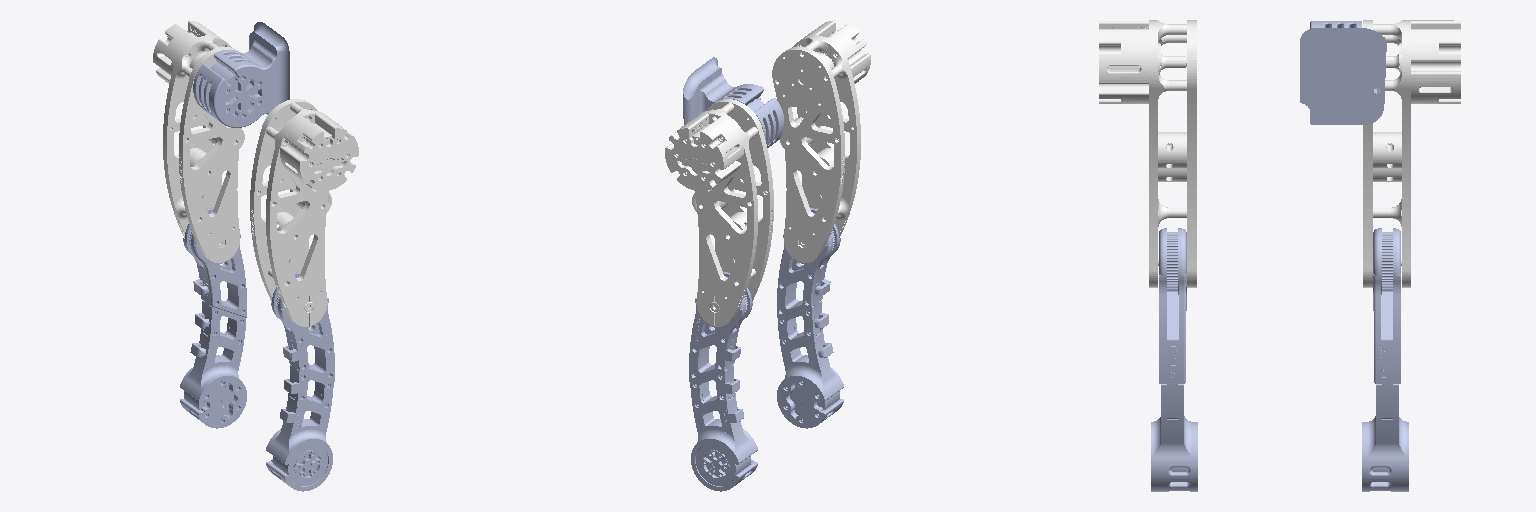
The robot description file, URDF, robot "wheel_GOAT":
<?xml version="1.0" encoding="utf-8"?>
<robot name="wheel_GOAT">
    <!-- 
      Uncomment to support the robot by fixing its base link to the world frame. 
      This anchors the robot in place, preventing movement.
    -->
    
    <!-- 
    <link name="world"/>
    <joint name="base_static_Joint" type="fixed">
        <origin rpy="0 0 0" xyz="0 0 0.3"/>
        <parent link="world"/>
        <child link="base_Link"/>
    </joint>
    -->
    <material name="black">
        <color rgba="0.0 0.0 0.0 1.0"/>
    </material>
    <material name="blue">
        <color rgba="0.0 0.0 0.8 1.0"/>
    </material>
    <material name="green">
        <color rgba="0.0 0.8 0.0 1.0"/>
    </material>
    <material name="grey">
        <color rgba="0.2 0.2 0.2 1.0"/>
    </material>
    <material name="silver">
        <color rgba="0.9137254901960784 0.9137254901960784 0.8470588235294118 1.0"/>
    </material>
    <material name="orange">
        <color rgba="1.0 0.4235294117647059 0.0392156862745098 1.0"/>
    </material>
    <material name="brown">
        <color rgba="0.8705882352941177 0.8117647058823529 0.7647058823529411 1.0"/>
    </material>
    <material name="red">
        <color rgba="0.8 0.0 0.0 1.0"/>
    </material>
    <material name="white">
        <color rgba="1.0 1.0 1.0 1.0"/>
    </material>

    <!-- ****************************************** Link ******************************************************** -->

    <link name="base_Link">
        <inertial>
            <origin rpy="0 0 0" xyz="-9.521E-03 0.016E-03 -72.346E-03"/>
            <mass value="2.818"/>
            <inertia ixx="20284.45E-06" ixy="-5.647E-06" ixz="6404.633E-06"
                    iyy="23476.973E-06" iyz="0.541E-06" izz="21206.204E-06"/>
        </inertial>
        <visual>
            <origin xyz="-123.5E-03 0E-03 15.5E-03" rpy="0 0 0"/>
            <geometry>
                <mesh filename="../meshes/base_Link.stl"/>
            </geometry>
            <material name="black">
                <color rgba="0.79216 0.81961 0.93333 1"/>
            </material>
        </visual>
        <collision>
            <origin xyz="-23E-03 0 -15E-03" rpy="0 0 0"/>
            <geometry>
                <box size="0.214 0.200 0.190"/>
            </geometry>
        </collision>
    </link>

    <link name="hip_L_Link">
        <inertial>
            <!-- C_rel_mirror = [-48.092, -38.296, -0.162] mm -->
            <origin rpy="0 0 0" xyz="-48.092E-03 -38.296E-03 -0.162E-03"/>
            <mass value="0.32"/>
            <!-- I_C_new_mirror -->
            <inertia ixx="143.701E-06" ixy="-12.808E-06" ixz="-1.53E-06"
                    iyy="215.732E-06" iyz="-0.447E-06" izz="197.705E-06"/>
        </inertial>
        <visual>
            <origin xyz="0 0 0" rpy="0 0 0"/>
            <geometry>
                <mesh filename="../meshes/hip_L_Link.stl"/>
            </geometry>
            <material name="">
                <color rgba="0.79216 0.81961 0.93333 1"/>
            </material>
        </visual>
        <collision>
            <origin xyz="-43.5E-03 -42E-03 0" rpy="1.57 0 0"/>
            <geometry>
                <cylinder length="48E-03" radius="43.5E-03"/>
            </geometry>
        </collision>
    </link>

    <link name="hip_R_Link">
        <inertial>
            <!-- C_rel = [-48.092, 38.296, -0.162] mm -->
            <origin rpy="0 0 0" xyz="-48.092E-03 38.296E-03 -0.162E-03"/>
            <mass value="0.32"/>
            <!-- I_C_new -->
            <inertia ixx="143.701E-06" ixy="12.808E-06" ixz="-1.53E-06"
                    iyy="215.732E-06" iyz="0.447E-06" izz="197.705E-06"/>
        </inertial>
        <visual>
            <origin xyz="0 0 0" rpy="0 0 0"/>
            <geometry>
                <mesh filename="../meshes/hip_R_Link.stl"/>
            </geometry>
            <material name="">
                <color rgba="0.79216 0.81961 0.93333 1"/>
            </material>
        </visual>
        <collision>
            <origin xyz="-43.5E-03 42E-03 0" rpy="1.57 0 0"/>
            <geometry>
                <cylinder length="48E-03" radius="43.5E-03"/>
            </geometry>
        </collision>
    </link>

    <link name="thigh_L_Link">
        <inertial>
            <!-- C_rel_mirror = [-2.292, 44.134, -32.074] mm -->
            <origin rpy="0 0 0" xyz="-2.292E-03 44.134E-03 -32.074E-03"/>
            <mass value="0.429"/>
            <!-- I_C_new_mirror -->
            <inertia ixx="2141.33E-06" ixy="-25.21E-06" ixz="-67.863E-06"
                    iyy="2065.884E-06" iyz="-348.977E-06" izz="345.531E-06"/>
        </inertial>
        <visual>
            <origin xyz="0 0 0" rpy="0 0 0"/>
            <geometry>
                <mesh filename="../meshes/thigh_L_Link.stl"/>
            </geometry>
            <material name="">
                <color rgba="1 1 1 1"/>
            </material>
        </visual>
        <collision>
            <origin xyz="0 41E-03 -94E-03" rpy="0 0 0"/>
            <geometry>
                <cylinder length="266E-03" radius="41E-03"/>
            </geometry>
        </collision>
    </link>

    <link name="thigh_R_Link">
        <inertial>
            <!-- C_rel = [-2.292, -44.134, -32.074] mm -->
            <origin rpy="0 0 0" xyz="-2.292E-03 -44.134E-03 -32.074E-03"/>
            <mass value="0.429"/>
            <!-- I_C_new -->
            <inertia ixx="2141.33E-06" ixy="25.21E-06" ixz="-67.863E-06"
                    iyy="2065.884E-06" iyz="348.977E-06" izz="345.531E-06"/>
        </inertial>
        <visual>
            <origin xyz="0 0 0" rpy="0 0 0"/>
            <geometry>
                <mesh filename="../meshes/thigh_R_Link.stl"/>
            </geometry>
            <material name="">
                <color rgba="1 1 1 1"/>
            </material>
        </visual>
        <collision>
            <origin xyz="0 -41E-03 -94E-03" rpy="0 0 0"/>
            <geometry>
                <cylinder length="266E-03" radius="41E-03"/>
            </geometry>
        </collision>
    </link>
        
    <link name="calf_L_Link">
        <inertial>
            <!-- C_rel_mirror = [1.922, 0.564, -169.664] mm -->
            <origin rpy="0 0 0" xyz="1.922E-03 0.564E-03 -169.664E-03"/>
            <mass value="0.287"/>
            <!-- I_C_new_mirror -->
            <inertia ixx="1163.053E-06" ixy="0.554E-06" ixz="-35.747E-06"
                    iyy="1199.643E-06" iyz="1.349E-06" izz="92.01E-06"/>
        </inertial>
        <visual>
            <origin xyz="0 0 0" rpy="0 0 0"/>
            <geometry>
                <mesh filename="../meshes/calf_L_Link.stl"/>
            </geometry>
            <material name="">
                <color rgba="0.79216 0.81961 0.93333 1"/>
            </material>
        </visual>
        <collision>
            <origin xyz="0 0 -116E-03" rpy="0 0 0"/>
            <geometry>
                <cylinder length="233E-03" radius="32.5E-03"/>
            </geometry>
        </collision>
    </link>

    <link name="calf_R_Link">
        <inertial>
            <!-- C_rel = [1.922, -0.564, -169.664] mm -->
            <origin rpy="0 0 0" xyz="1.922E-03 -0.564E-03 -169.664E-03"/>
            <mass value="0.287"/>
            <!-- I_C_new -->
            <inertia ixx="1163.053E-06" ixy="-0.554E-06" ixz="-35.747E-06"
                    iyy="1199.643E-06" iyz="-1.349E-06" izz="92.01E-06"/>
        </inertial>
        <visual>
            <origin xyz="0 0 0" rpy="0 0 0"/>
            <geometry>
                <mesh filename="../meshes/calf_R_Link.stl"/>
            </geometry>
            <material name="">
                <color rgba="0.79216 0.81961 0.93333 1"/>
            </material>
        </visual>
        <collision>
            <origin xyz="0 0 -116E-03" rpy="0 0 0"/>
            <geometry>
                <cylinder length="233E-03" radius="32.5E-03"/>
            </geometry>
        </collision>
    </link>

    <link name="wheel_L_Link">
        <visual>
            <origin rpy="0 0 0" xyz="0 0 0" />
            <geometry>
                <mesh filename="../meshes/wheel_L_Link.stl"/>
            </geometry>
            <material name="orange" />
            <color rgba="0.69804 0.69804 0.69804 1" />
        </visual>
        <collision>
            <origin rpy="1.5707963267948966 0 0" xyz="0 7E-03 0" />
            <geometry>
                <cylinder length="32E-03" radius="72.75E-03" />
            </geometry>
        </collision>
        <inertial>
            <!-- C_rel_mirror = [0, 7.264, -0.002] mm -->
            <origin rpy="0 0 0" xyz="0.0E-03 7.264E-03 -0.002E-03" />
            <mass value="0.212" />
            <!-- I_C_new_mirror -->
            <inertia ixx="338.788E-06" ixy="-0.001E-06" ixz="-0.008E-06" 
                    iyy="647.488E-06" iyz="0.001E-06" izz="338.791E-06" />
        </inertial>
    </link>  

    <link name="wheel_R_Link">
        <visual>
            <origin rpy="0 0 0" xyz="0 0 0" />
            <geometry>
                <mesh filename="../meshes/wheel_R_Link.stl"/>
            </geometry>
            <material name="orange" />
            <color rgba="0.69804 0.69804 0.69804 1" />
        </visual>
        <collision>
            <origin rpy="1.5707963267948966 0 0" xyz="0 -7E-03 0" />
            <geometry>
                <cylinder length="32E-03" radius="72.75E-03" />
            </geometry>
        </collision>
        <inertial>
            <!-- C_rel = [0, -7.264, -0.002] mm -->
            <origin rpy="0 0 0" xyz="0.0E-03 -7.264E-03 -0.002E-03" />
            <mass value="0.212" />
            <!-- I_C_new -->
            <inertia ixx="338.788E-06" ixy="0.001E-06" ixz="-0.008E-06" 
                    iyy="647.488E-06" iyz="-0.001E-06" izz="338.791E-06" />
        </inertial>
    </link>


    <!-- ****************************************** Joint ******************************************************** -->
    
    <joint name="hip_L_Joint" type="revolute">
        <origin xyz="38.386E-03 94.233E-03 -152.597E-03" rpy="0 0 0"/>
        <parent link="base_Link"/>
        <child link="hip_L_Link"/>
        <axis xyz="-1 0 0"/>
        <limit effort="4.5" lower="-1.22173" upper="0.750492" velocity="15.0"/>
        <dynamics damping="100.0" stiffness="10000.0"/>
    </joint>
    
    <joint name="hip_R_Joint" type="revolute">
        <origin xyz="38.386E-03 -94.233E-03 -152.597E-03" rpy="0 0 0"/>
        <parent link="base_Link"/>
        <child link="hip_R_Link"/>
        <axis xyz="-1 0 0"/>
        <limit effort="4.5" lower="-0.750492" upper="1.22173" velocity="15.0"/>
        <dynamics damping="100.0" stiffness="10000.0"/>
    </joint>
    
    <joint name="thigh_L_Joint" type="revolute">
        <origin xyz="-54E-03 -17E-03 0" rpy="0 0 0"/>
        <parent link="hip_L_Link"/>
        <child link="thigh_L_Link"/>
        <axis xyz="0 1 0"/>
        <limit effort="4.5" lower="-0.261799" upper="2.05949" velocity="15.0"/>
        <dynamics damping="100.0" stiffness="10000.0"/>
    </joint>

    <joint name="thigh_R_Joint" type="revolute">
        <origin xyz="-54E-03 17E-03 0" rpy="0 0 0"/>
        <parent link="hip_R_Link"/>
        <child link="thigh_R_Link"/>
        <axis xyz="0 -1 0"/>
        <limit effort="4.5" lower="-2.05949" upper="0.261799" velocity="15.0"/>
        <dynamics damping="100.0" stiffness="10000.0"/>
    </joint>

    <joint name="knee_L_Joint" type="revolute">
        <origin xyz="0 18E-03 -205E-03" rpy="0 0 0"/>
        <parent link="thigh_L_Link"/>
        <child link="calf_L_Link"/>
        <axis xyz="0 -1 0"/>
        <limit effort="4.5" lower="0.0" upper="2.30383" velocity="15"/>
        <dynamics damping="100.0" stiffness="10000.0"/>
    </joint>

    <joint name="knee_R_Joint" type="revolute">
        <origin xyz="0 -18E-03 -205E-03" rpy="0 0 0"/>
        <parent link="thigh_R_Link"/>
        <child link="calf_R_Link"/>
        <axis xyz="0 1 0"/>
        <limit effort="4.5" lower="-2.30383" upper="0.0" velocity="15"/>
        <dynamics damping="100.0" stiffness="10000.0"/>
    </joint>

    <joint name="wheel_L_Joint" type="revolute">
        <origin xyz="0 16.555E-03 -200E-03" rpy="0 0 0"/>
        <parent link="calf_L_Link" />
        <child link="wheel_L_Link" />
        <axis xyz="0 1 0" />
        <limit effort="2.5" lower="-1000000" upper="1000000" velocity="40" />
        <dynamics damping="100.0" stiffness="10000.0"/>
        <dynamics friction="0.01" />
    </joint>
    
    <joint name="wheel_R_Joint" type="revolute">
        <origin xyz="0 -16.555E-03 -200E-03" rpy="0 0 0"/>
        <parent link="calf_R_Link" />
        <child link="wheel_R_Link" />
        <axis xyz="0 -1 0" />
        <limit effort="2.5" lower="-1000000" upper="1000000" velocity="40" />
        <dynamics damping="100.0" stiffness="10000.0"/>
        <dynamics friction="0.01" />
    </joint>
    
    <!-- ****************************************** D435 Camera ******************************************************** -->
    <!--
    <joint name="d435_joint" type="fixed">
        <origin rpy="0 1.063778179 0" xyz="0.13223 0.0222 -0.26826"/>
        <parent link="base_Link"/>
        <child link="d435_Link"/>
    </joint>
    <link name="d435_Link">
        <visual>
            <origin rpy="1.5707963267948966 0 1.5707963267948966" xyz="0.0149 -0.0175 0"/>
            <geometry>
                <mesh filename="package://goat_description/meshes_camera/d435.dae" scale="1 1 1"/>
            </geometry>
        </visual>
        <collision>
            <origin rpy="0 0 0" xyz="0 -0.0175 0"/>
            <geometry>
                <box size="0.02505 0.09 0.025"/>
            </geometry>
        </collision>
    </link>
    -->
    <!-- ****************************************** D435 Camera END ******************************************************** -->
</robot>

--- Render facts (derived) ---
3 views of the same robot in one strip: view 1: azimuth 30°, elevation 25°; view 2: azimuth 150°, elevation 25°; view 3: azimuth 270°, elevation 25° (orthographic).
Robot: wheel_GOAT — 9 links, 8 joints (8 revolute); root link base_Link; default pose: all joints at 0.
Visible links, largest first — view 1: thigh_R_Link, thigh_L_Link, calf_L_Link, calf_R_Link, hip_L_Link; view 2: thigh_R_Link, thigh_L_Link, calf_R_Link, calf_L_Link, hip_L_Link; view 3: thigh_R_Link, thigh_L_Link, calf_L_Link, calf_R_Link, hip_L_Link.
Boxes of the visible links, box(x1,y1,x2,y2) form: thigh_R_Link: box(250, 99, 358, 326); thigh_L_Link: box(153, 20, 244, 262); calf_L_Link: box(180, 208, 246, 428); calf_R_Link: box(266, 272, 334, 491); hip_L_Link: box(193, 22, 289, 127); thigh_R_Link: box(772, 20, 870, 262); thigh_L_Link: box(665, 99, 773, 326); calf_R_Link: box(777, 208, 843, 428); calf_L_Link: box(689, 272, 757, 491); hip_L_Link: box(683, 57, 784, 147); thigh_R_Link: box(1099, 20, 1196, 287); thigh_L_Link: box(1363, 20, 1460, 287); calf_L_Link: box(1362, 228, 1408, 491); calf_R_Link: box(1151, 228, 1197, 491); hip_L_Link: box(1300, 21, 1386, 124).
Size in the robot's own frame: 0.1075 by 0.3369 by 0.4985 metres.
5 mesh visuals loaded from 9 distinct referenced files (5 binary STL); not drawn: 4 (reference not matched to a file when rendering).
